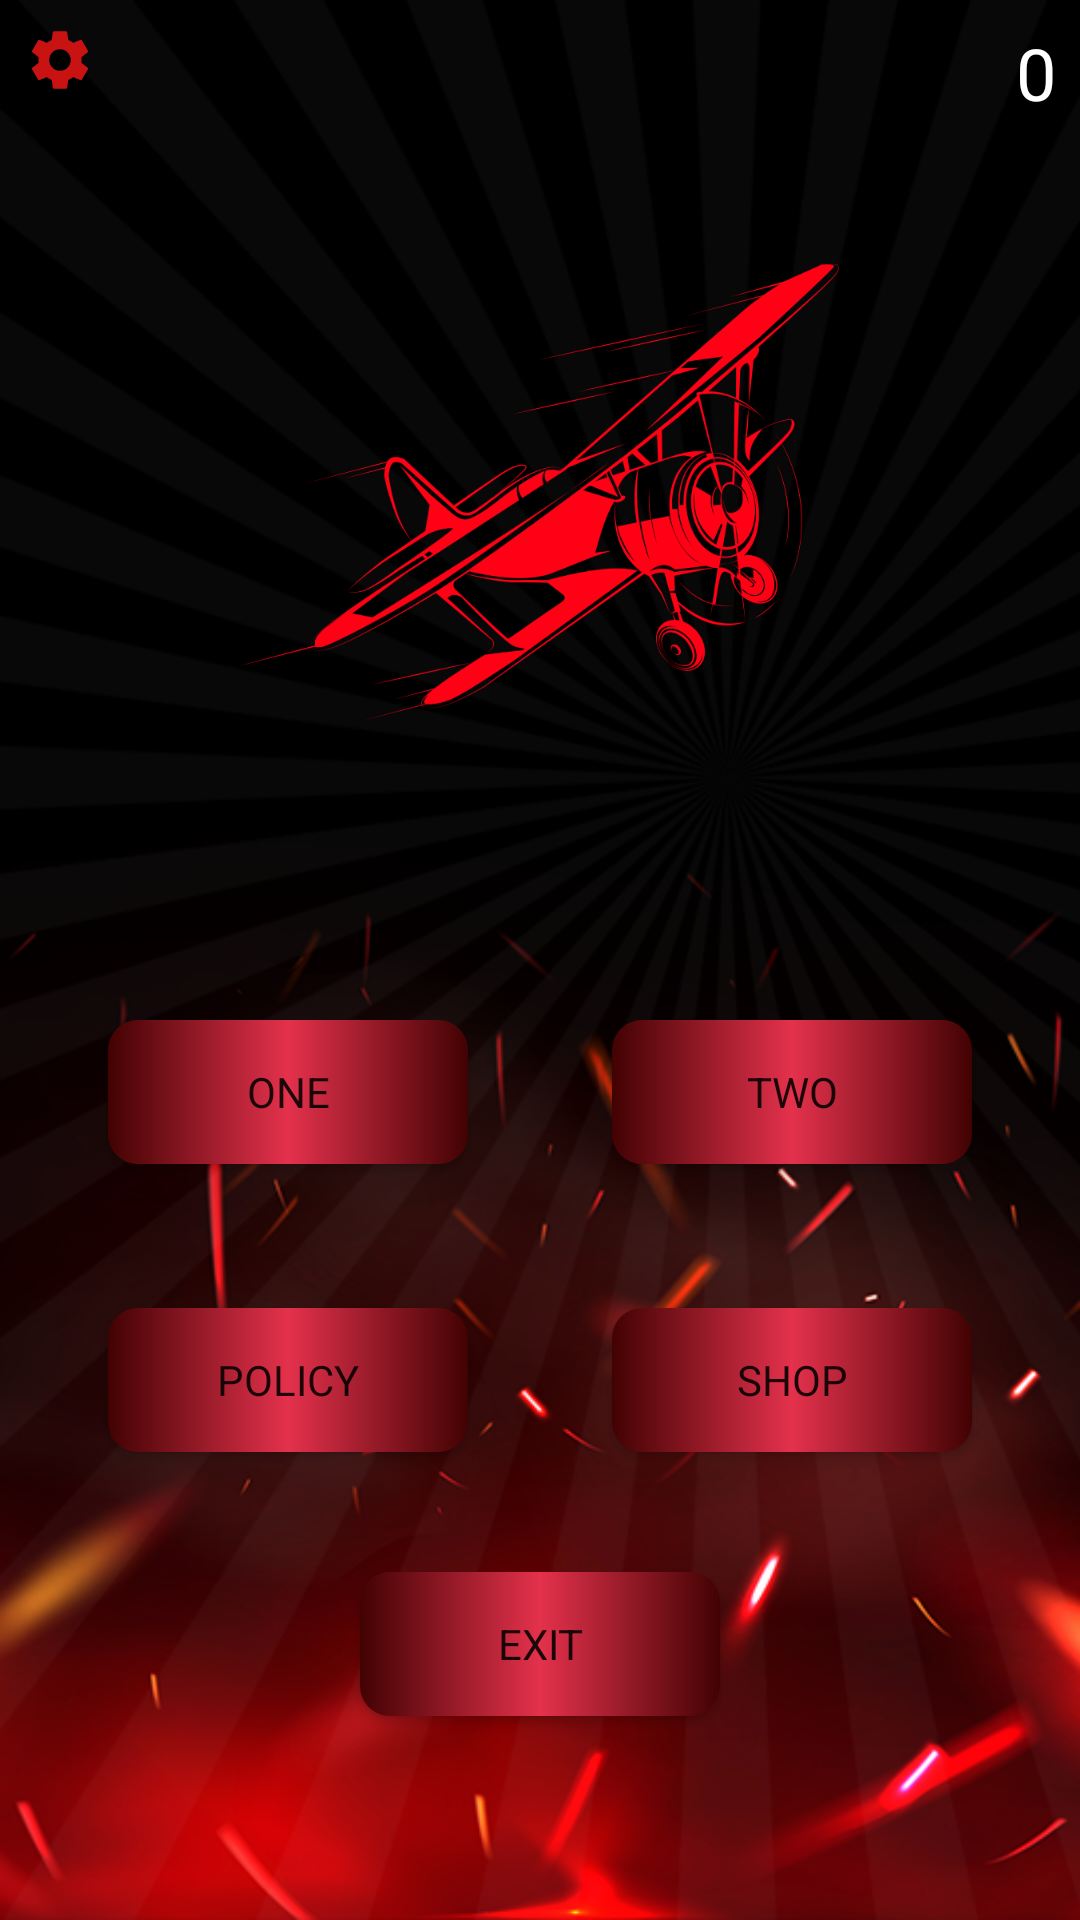

Icon click points for this 1080px x 1920px phone screenshot, format (x,y):
settings: (60,60)
